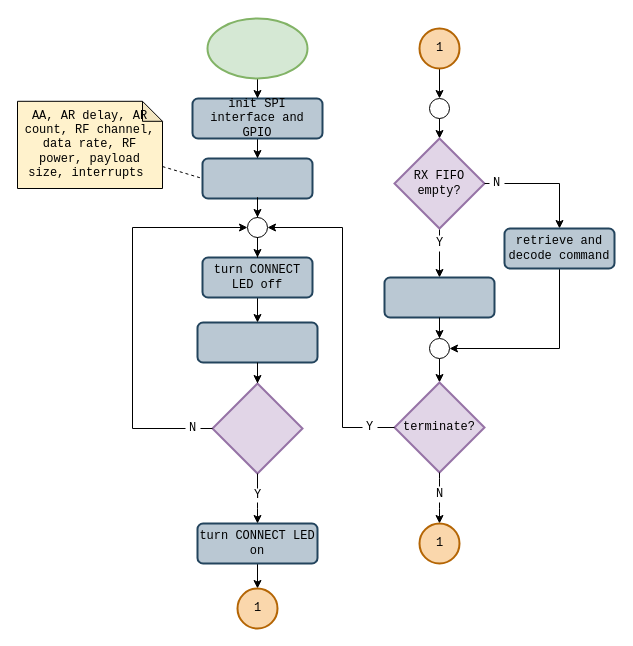
This 633x646 diagram has some shape labels left out. Here are the shapes that lost their labels. From the top down, the box of each, then its label:
(206, 17, 308, 79): Start
(201, 157, 313, 199): configure RF module hardware
(383, 276, 495, 318): enter stand-by mode
(196, 321, 318, 363): await connection request
(211, 382, 303, 474): request arrived & credentials match?
